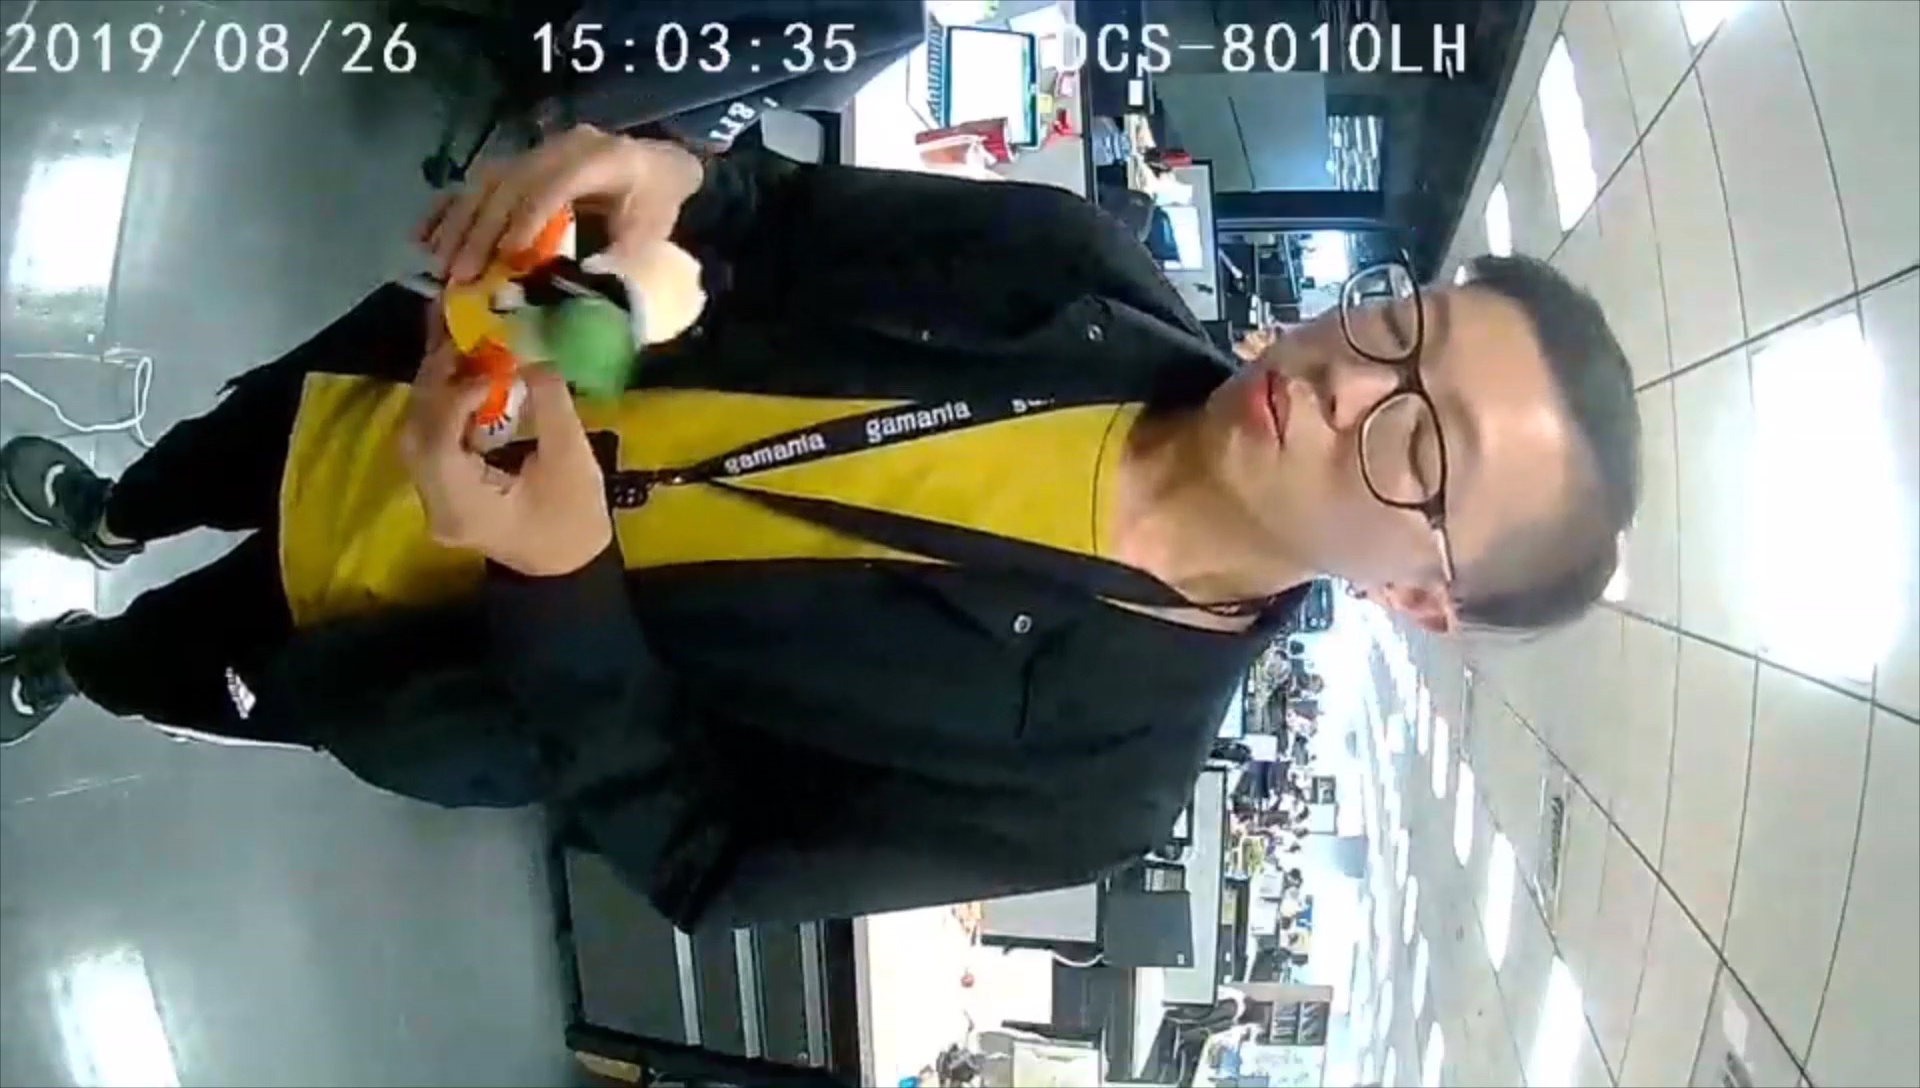goofy: (434, 193, 721, 455)
